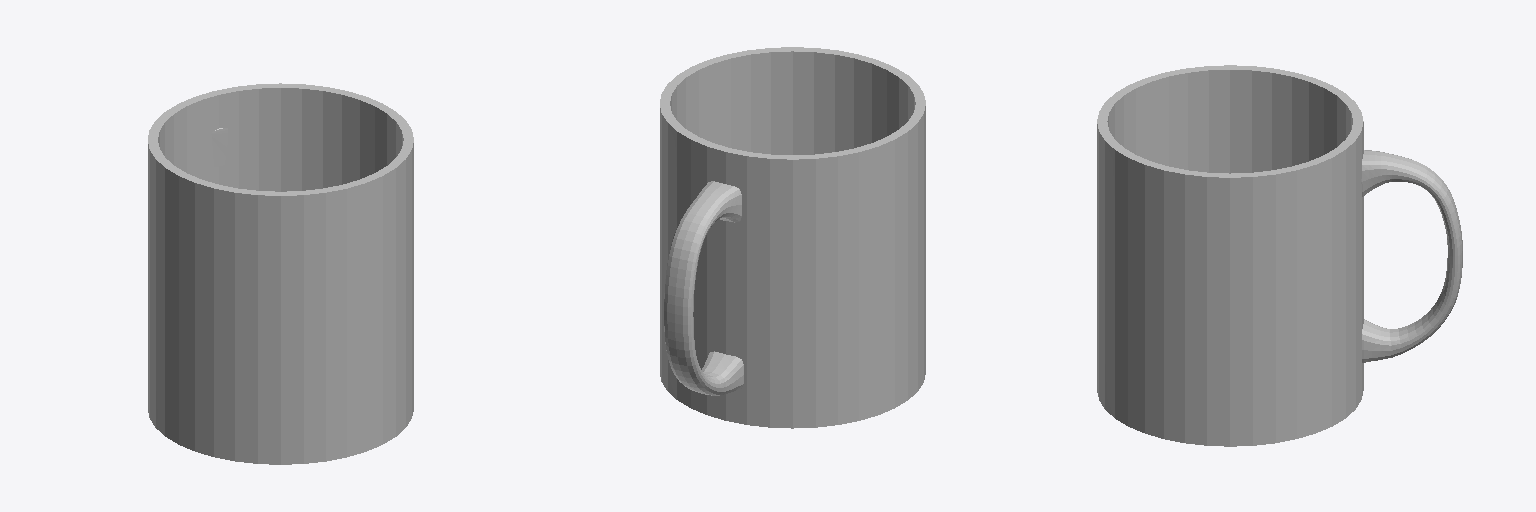
File: mug.obj
The picture shows the model from 3 angles: view 1: azimuth 30°, elevation 25°; view 2: azimuth 150°, elevation 25°; view 3: azimuth 270°, elevation 25°; orthographic projection.
Parts seen in each view (by area): view 1: Cup, Porcelin_001_Porcelin.001, Porcelin, Handle_PIVOT_Handle; view 2: Cup, Porcelin, Porcelin_001_Porcelin.001, Handle_PIVOT_Handle; view 3: Cup, Porcelin_001_Porcelin.001, Porcelin, Handle_PIVOT_Handle.
Part boxes in pixels (x1,y1,x2,y2): Cup: (148, 155, 413, 451); Porcelin_001_Porcelin.001: (148, 83, 413, 195); Porcelin: (148, 143, 413, 464); Handle_PIVOT_Handle: (211, 128, 227, 166); Cup: (660, 119, 925, 415); Porcelin: (660, 106, 925, 428); Porcelin_001_Porcelin.001: (660, 47, 925, 159); Handle_PIVOT_Handle: (664, 181, 743, 395); Cup: (1097, 136, 1345, 433); Porcelin_001_Porcelin.001: (1097, 65, 1363, 177); Porcelin: (1097, 122, 1363, 446); Handle_PIVOT_Handle: (1361, 150, 1462, 362).
Bounding box in the file's own units: 6.14 × 6.83 × 8.43.